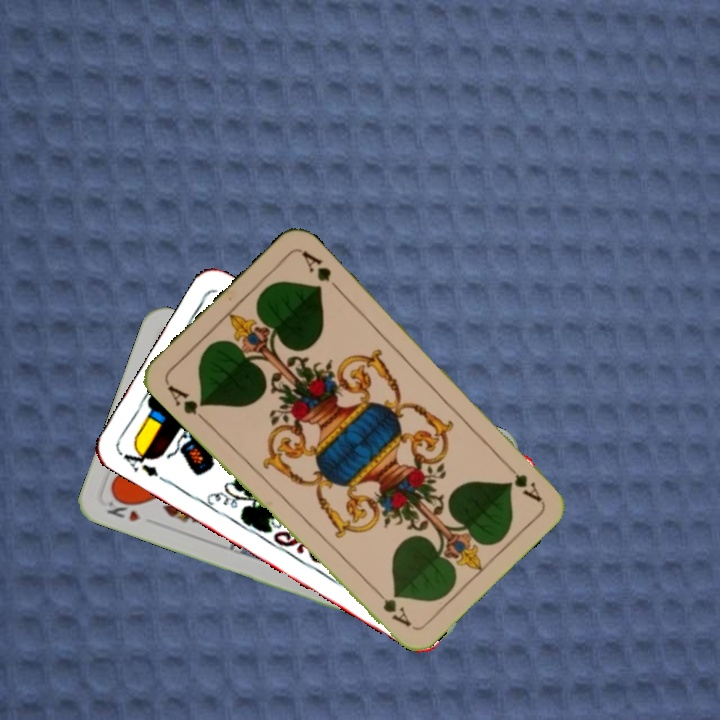EA: (117, 441, 171, 486)
GA: (499, 457, 545, 505), (163, 380, 210, 426)
HK: (102, 497, 143, 524)
